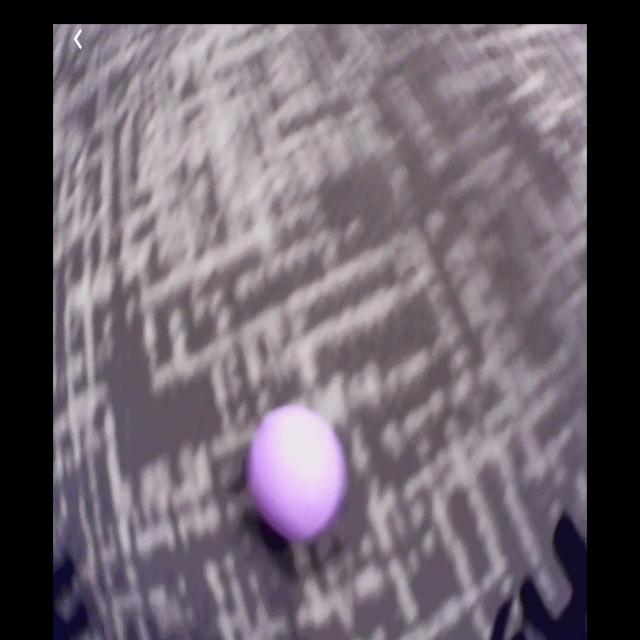ball: (250, 407, 347, 538)
